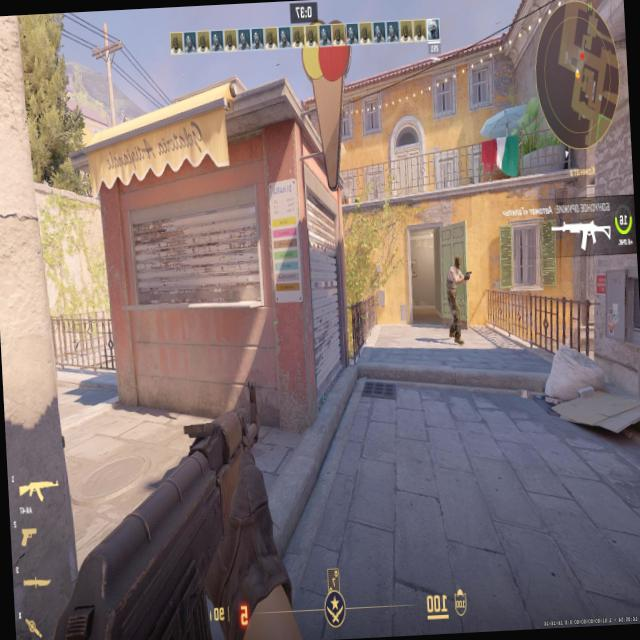T: (446, 255, 464, 328)
T_heat: (454, 260, 459, 276)
